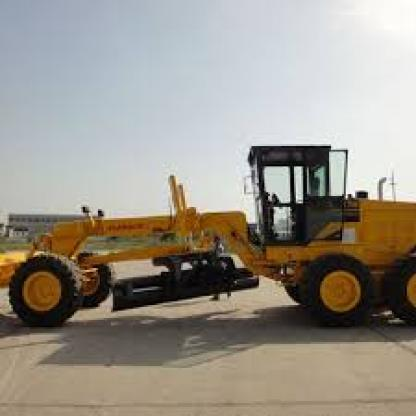bull_dozer/loader/grader: (6, 128, 412, 362)
